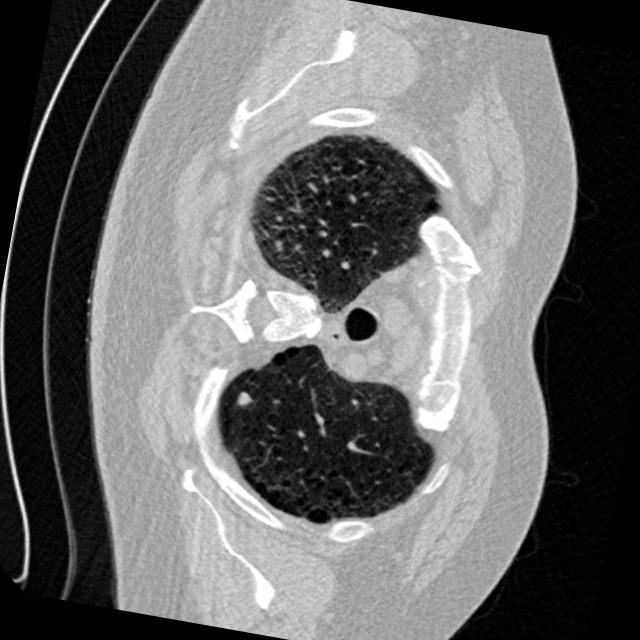nodule: (226, 378, 263, 416)
